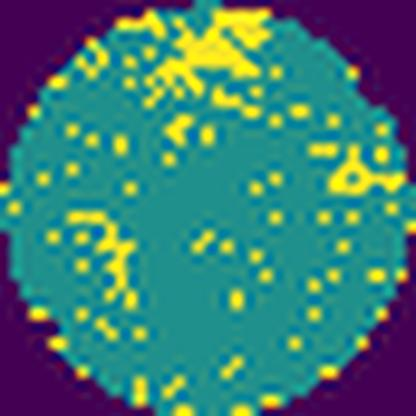Loc: (144, 7, 274, 99), (66, 208, 140, 309), (332, 145, 399, 195)
